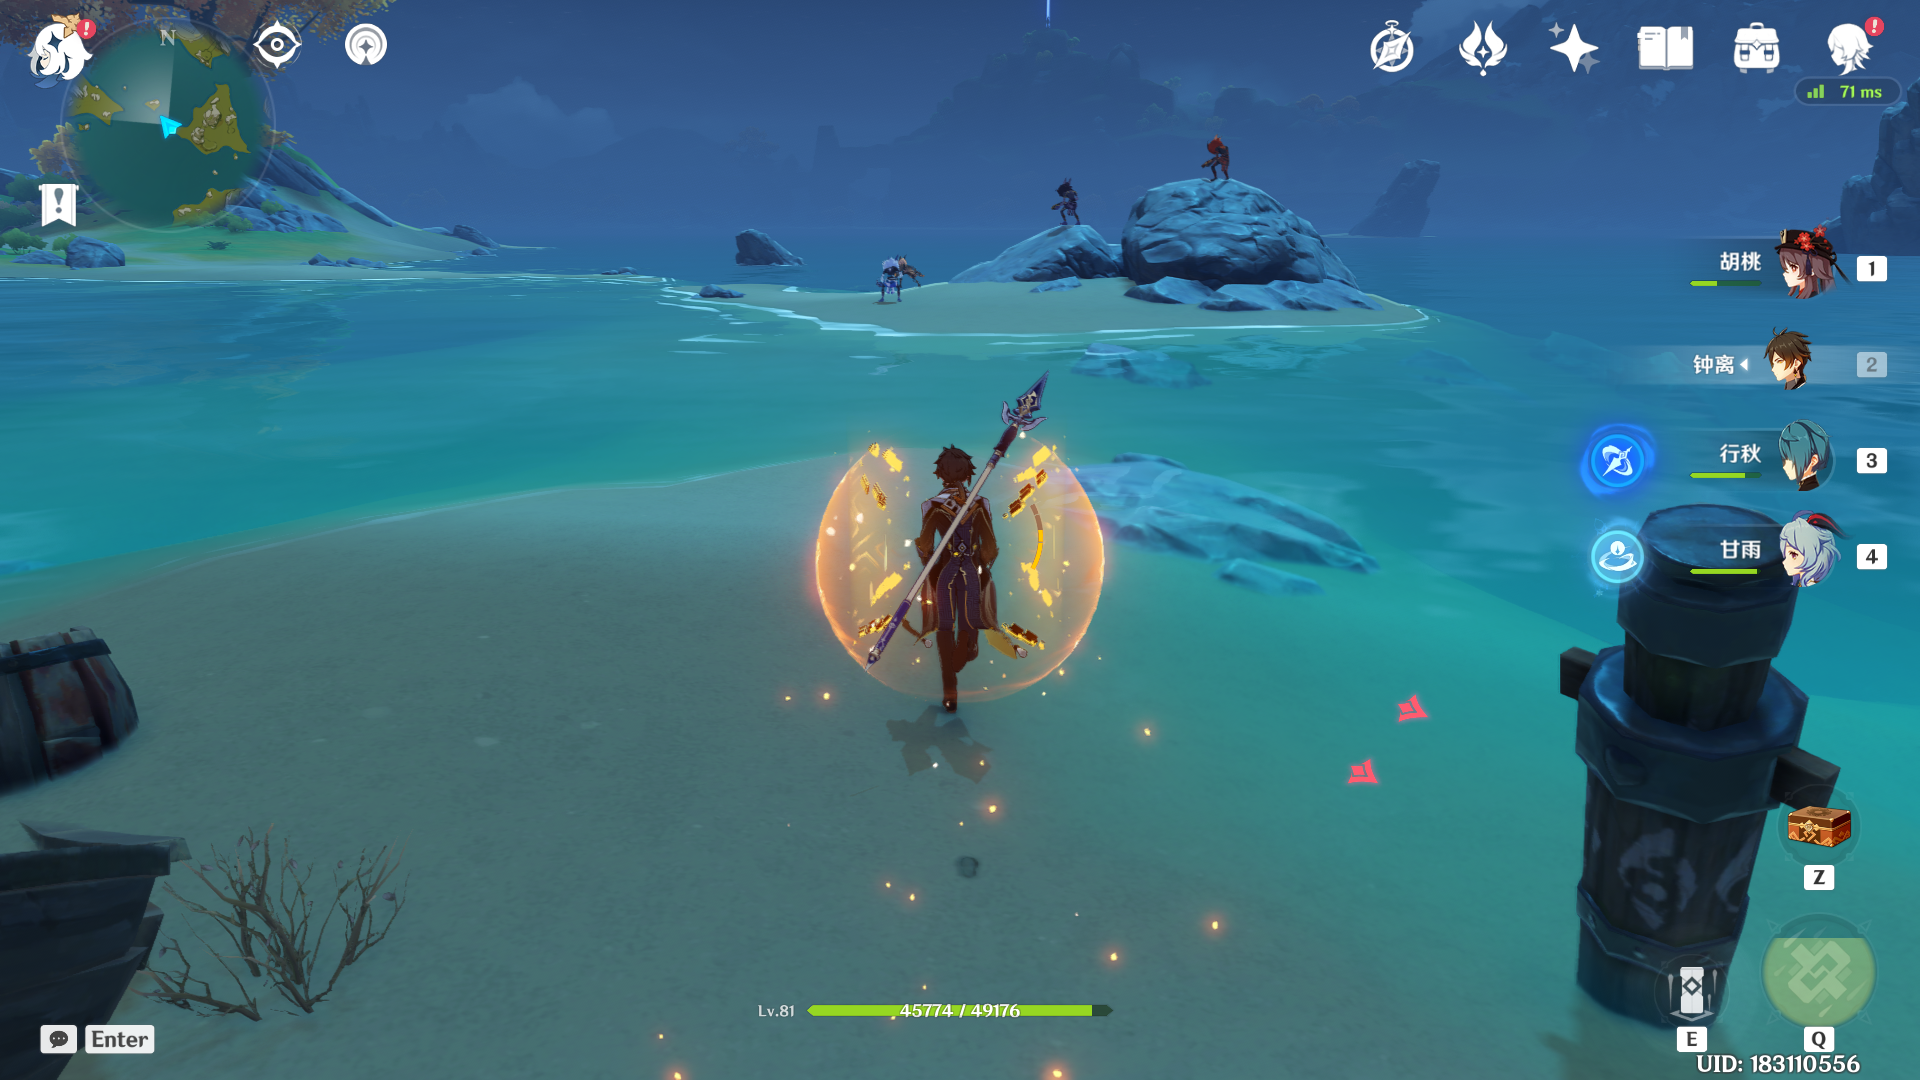hili: (841, 409, 1063, 762), (845, 233, 927, 320), (1178, 135, 1254, 224), (1029, 170, 1091, 251)
